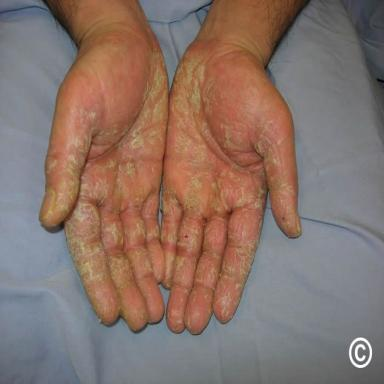eczema: (161, 49, 301, 333), (44, 49, 168, 330)
